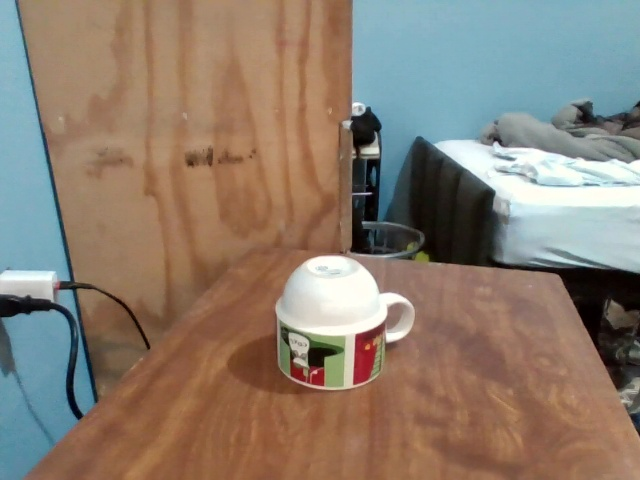taza: (275, 255, 415, 391)
